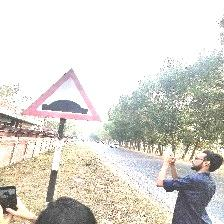Speed-breaker: (24, 65, 102, 123)
